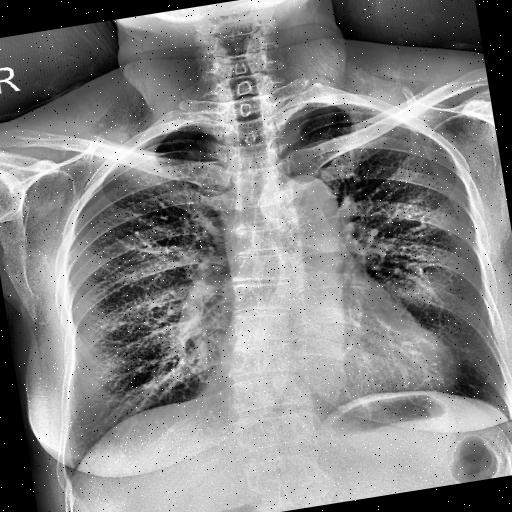0- Aortic enlargement: (256, 167, 342, 247), (272, 168, 342, 231), (274, 170, 334, 218)
3- Cardiomegaly: (214, 303, 462, 426), (216, 320, 462, 432), (216, 320, 460, 430)
